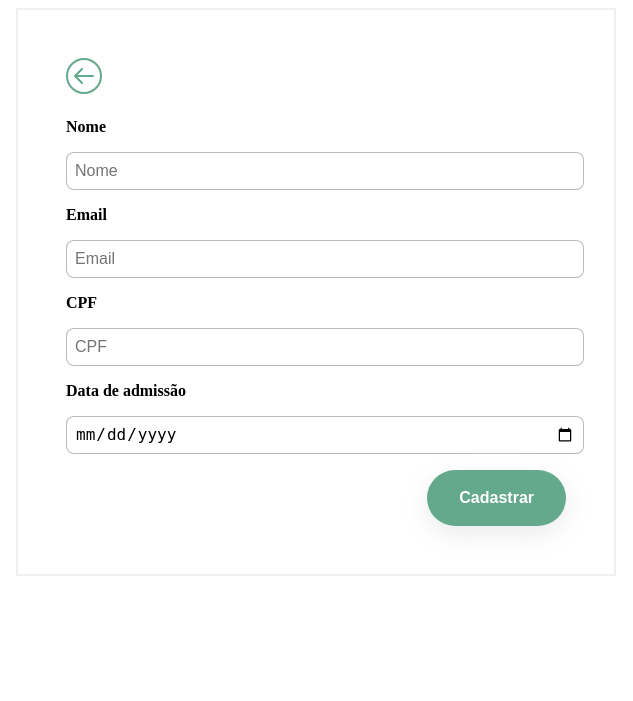
Test: NewUserPage tests › should shows validation erros for fields
Click the button "Cadastrar" at (497, 498), box [427,470,566,526]
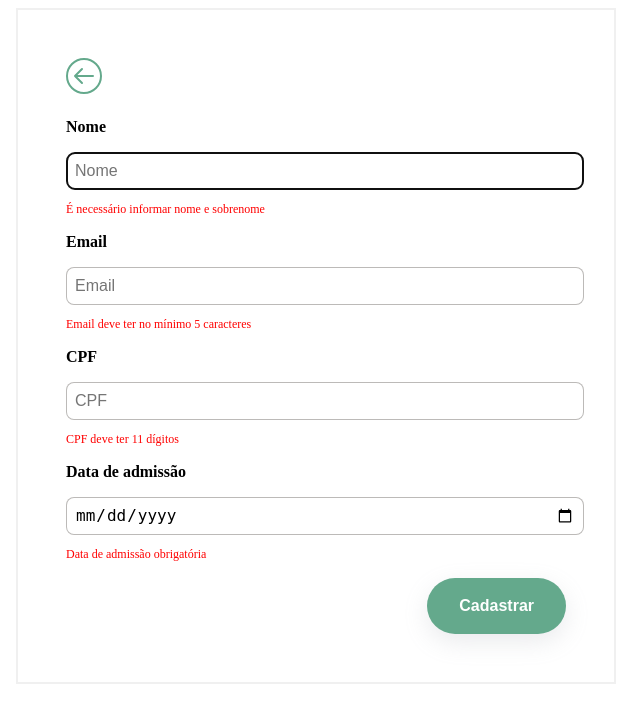
Result: the text "É necessário informar nome e sobrenome" is shown at [66,202,265,216]
Result: the text "Email deve ter no mínimo 5 caracteres" is shown at [66,317,251,331]
Result: the text "CPF deve ter 11 dígitos" is shown at [66,432,179,446]
